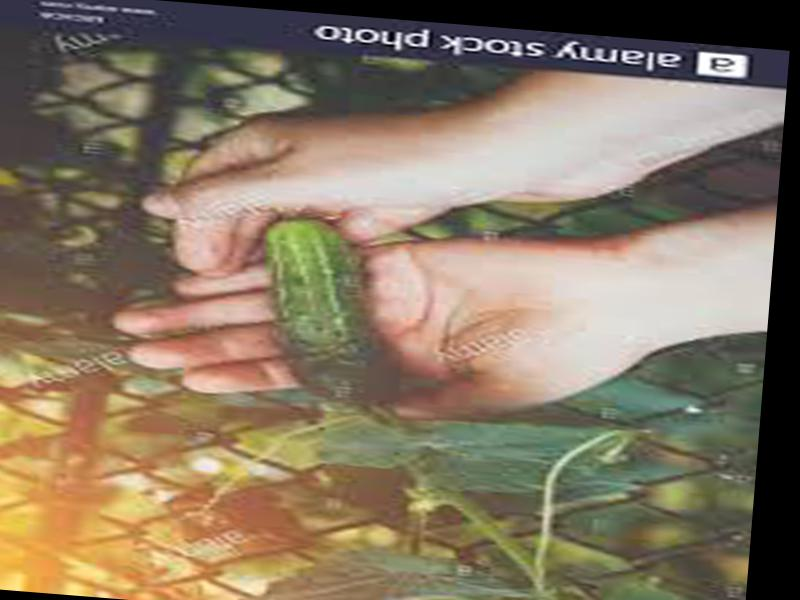Cucumber: (249, 213, 407, 407)
